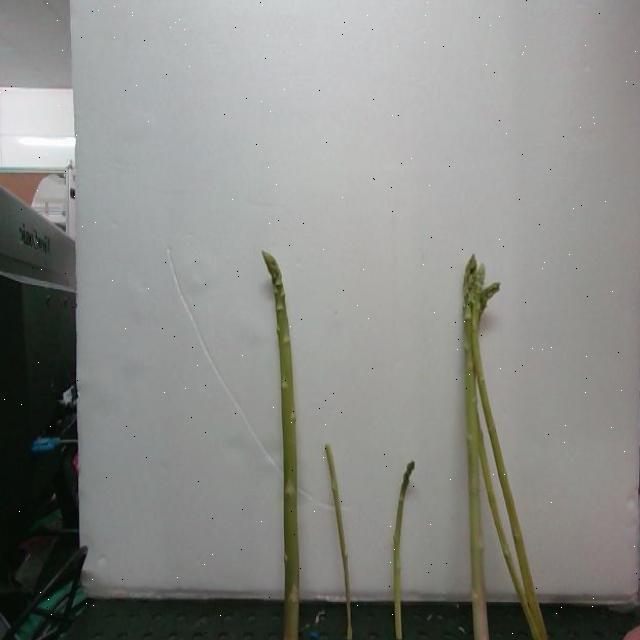aspargus: (264, 253, 302, 640), (460, 259, 490, 640), (392, 461, 417, 640)
